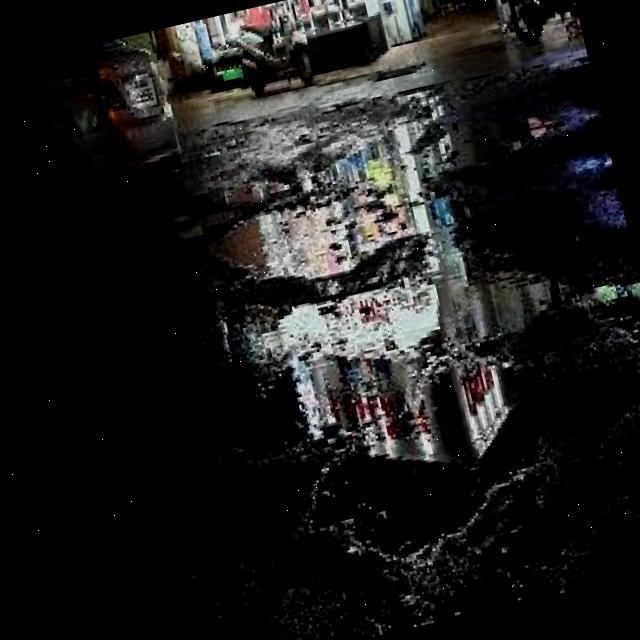waterlogging: (272, 320, 640, 595), (192, 125, 484, 306)
